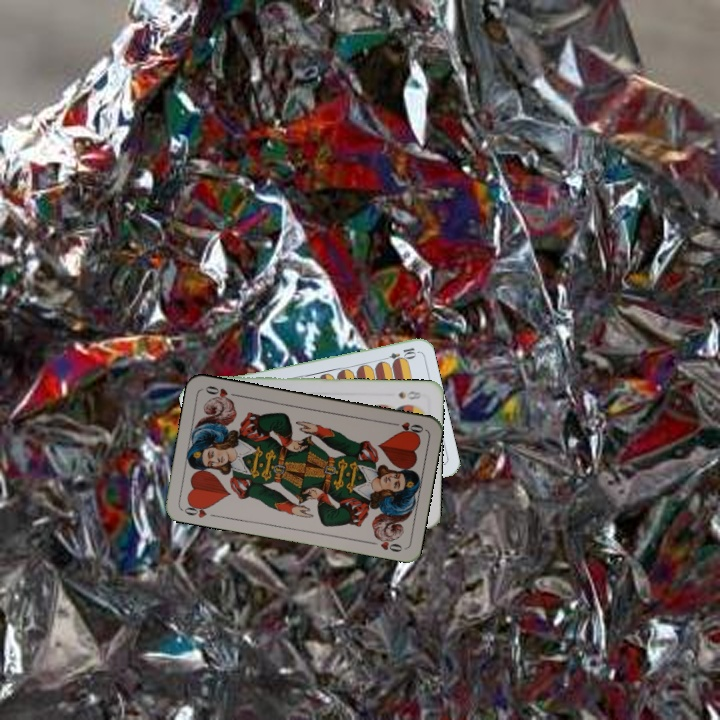E10: (378, 343, 419, 364)
HO: (179, 498, 214, 521), (386, 418, 426, 437)
S8: (395, 387, 423, 402)
